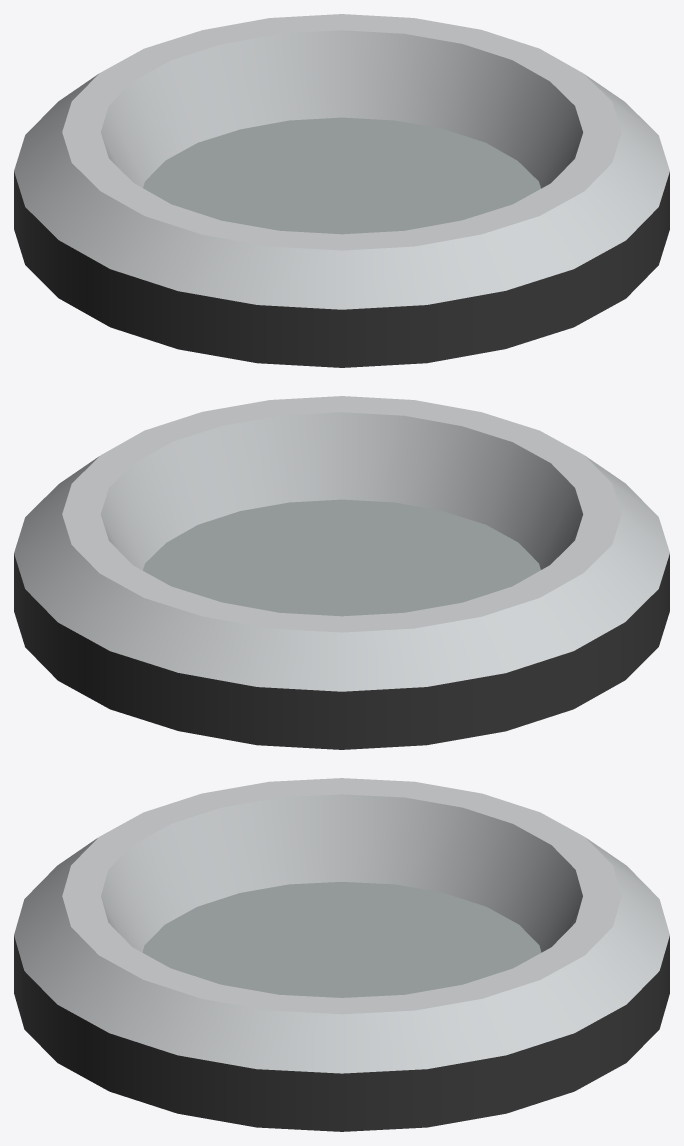
The model's file is Turret_010.fbx.
3 views of the same model, one above another, from view 1: azimuth 30°, elevation 25°; view 2: azimuth 150°, elevation 25°; view 3: azimuth 270°, elevation 25° (orthographic).
Parts seen in each view (by area): view 1: Turret_010; view 2: Turret_010; view 3: Turret_010.
Part boxes in pixels (x1,y1,x2,y2): Turret_010: (14,14,669,367); Turret_010: (14,396,669,749); Turret_010: (14,778,669,1131).
Size of the model in its own units: 109 by 109 by 17.84.
